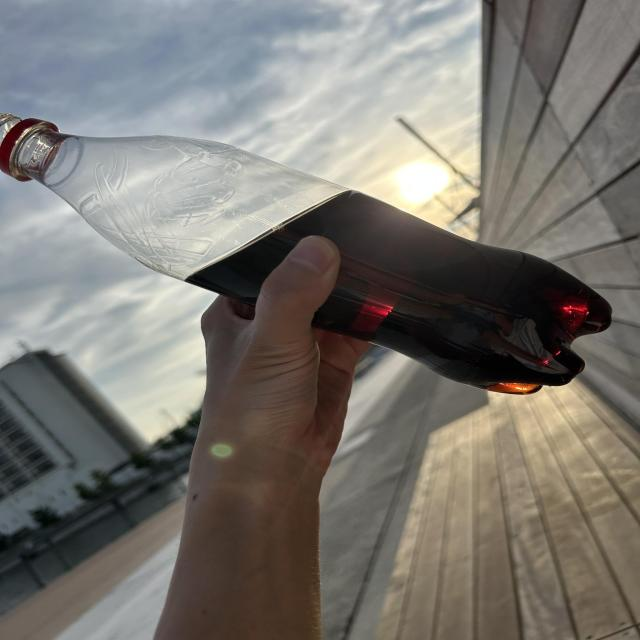medium: (0, 114, 611, 394)
